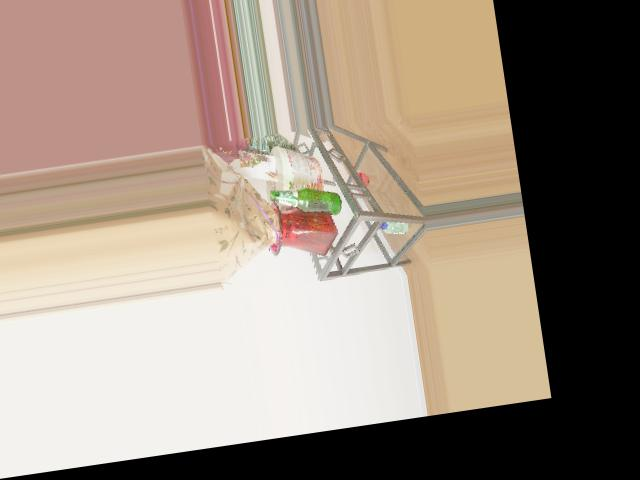beer: (269, 181, 343, 223)
